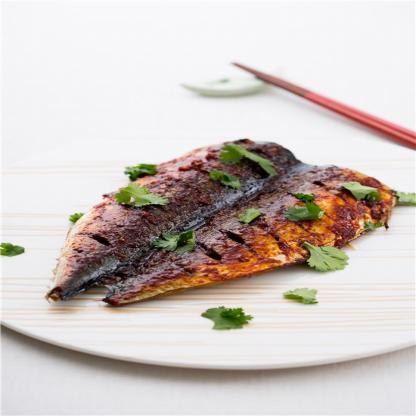Peixe: (13, 136, 392, 307)
